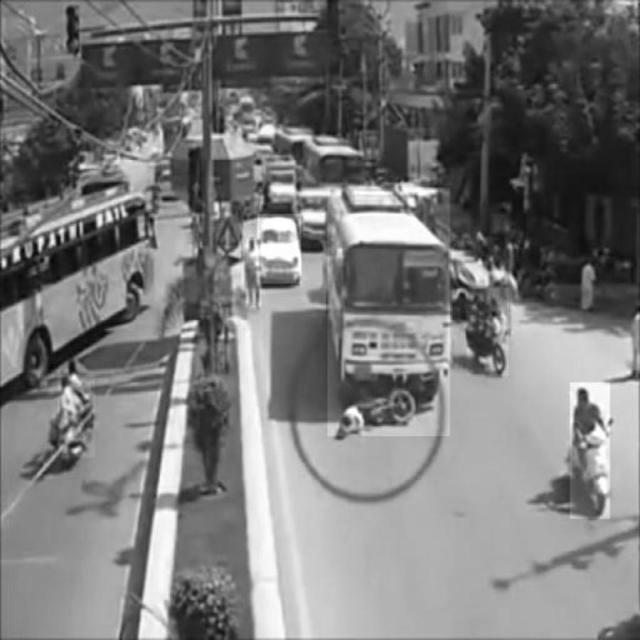accident: (327, 188, 451, 436)
person: (247, 239, 262, 307)
vehicle: (4, 181, 155, 376), (571, 383, 611, 519), (467, 288, 509, 376), (59, 361, 96, 459), (258, 214, 302, 284)
